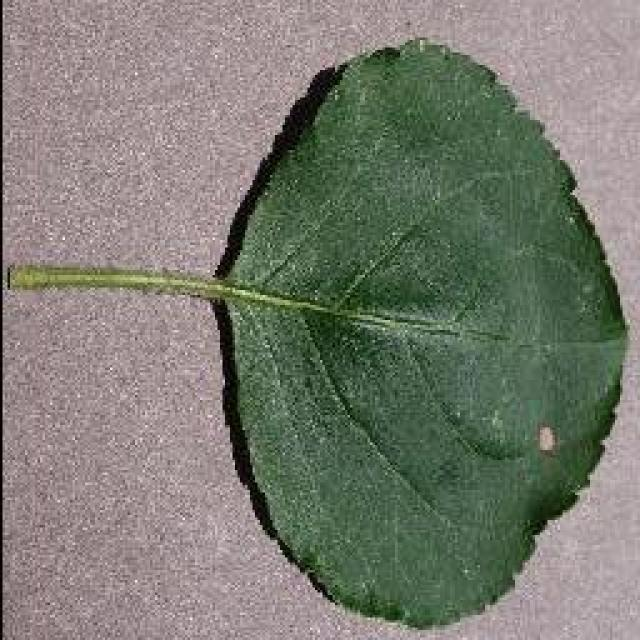apple black rot: (208, 35, 630, 630)
